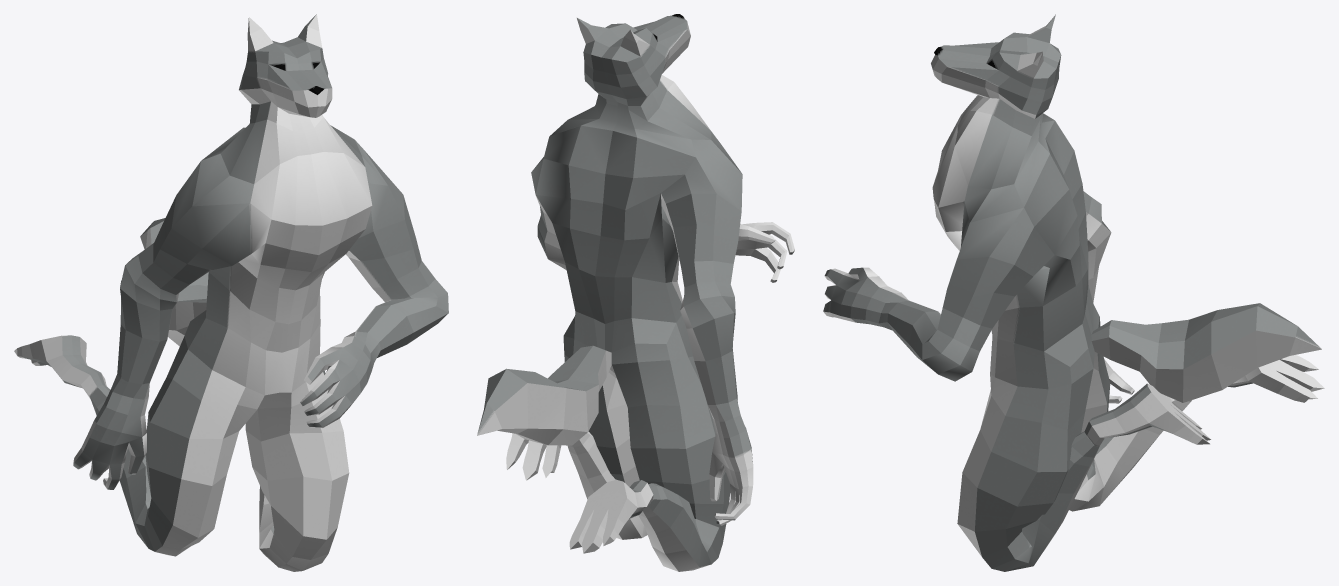
Rendered from WolfDead(45).obj.
3 renders of one model, left to right at view 1: azimuth 30°, elevation 25°; view 2: azimuth 150°, elevation 25°; view 3: azimuth 270°, elevation 25°, orthographic. The views are drawn at different scales.
Visible parts, largest first — view 1: Box001; view 2: Box001; view 3: Box001.
Boxes of the visible parts, x1,y1,x2,y2 form: Box001: [14, 14, 448, 571]; Box001: [477, 14, 794, 571]; Box001: [823, 14, 1324, 571].
Bounding box in the file's own units: 68.43 × 122 × 102.
